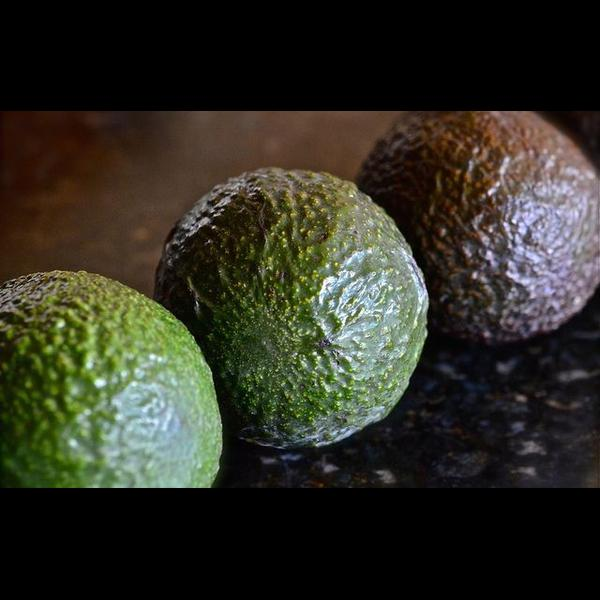ripe: (354, 110, 600, 343)
unripe: (154, 166, 428, 447), (1, 270, 222, 487)
